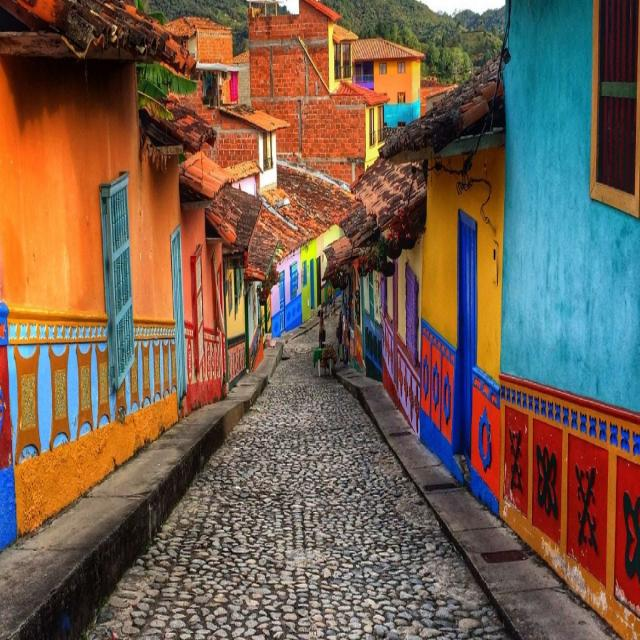Fachada: (0, 0, 215, 548), (500, 0, 640, 639), (382, 56, 505, 511), (249, 0, 388, 182), (356, 159, 426, 435), (180, 152, 233, 413), (202, 105, 290, 188), (252, 196, 302, 336), (354, 37, 424, 126), (295, 210, 320, 321)
